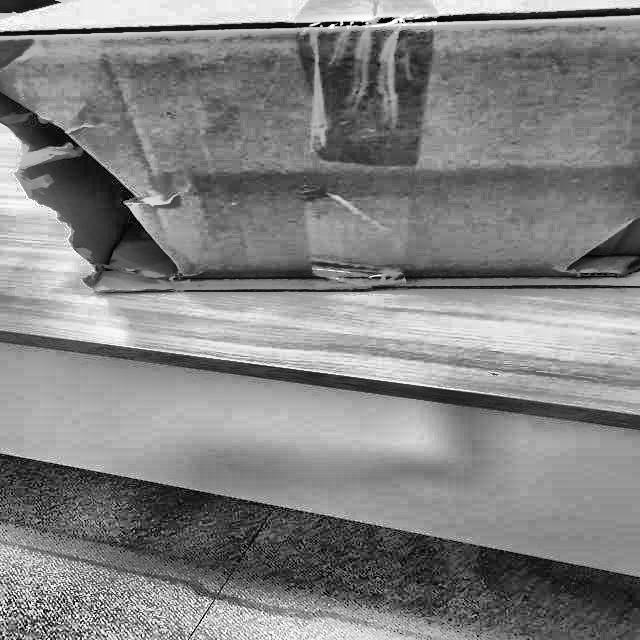box: (0, 0, 639, 311)
hole: (0, 90, 184, 288)
